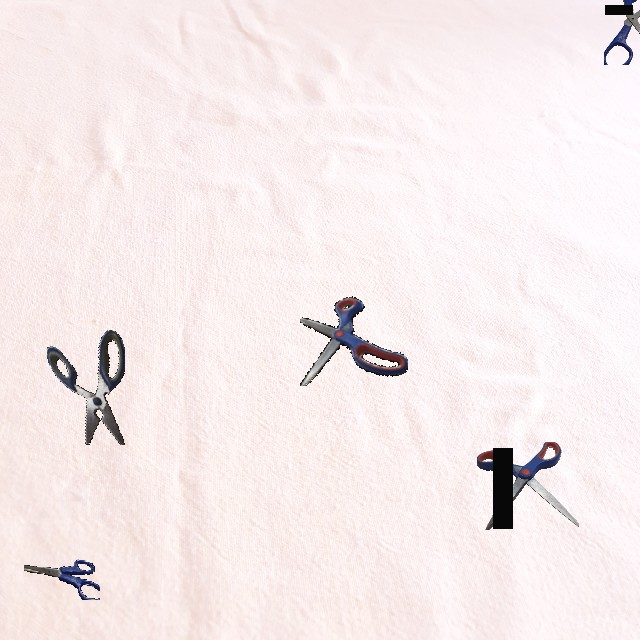scissors: (300, 296, 408, 386), (477, 442, 579, 530), (47, 330, 125, 445), (24, 559, 100, 600), (604, 0, 640, 65)
